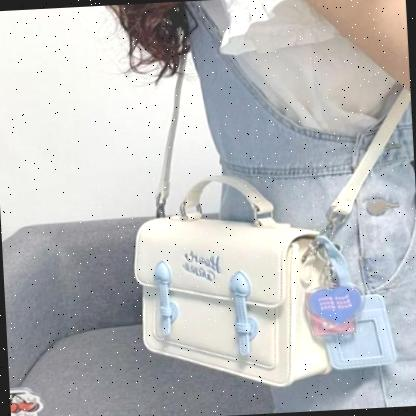bag: (116, 160, 364, 401)
